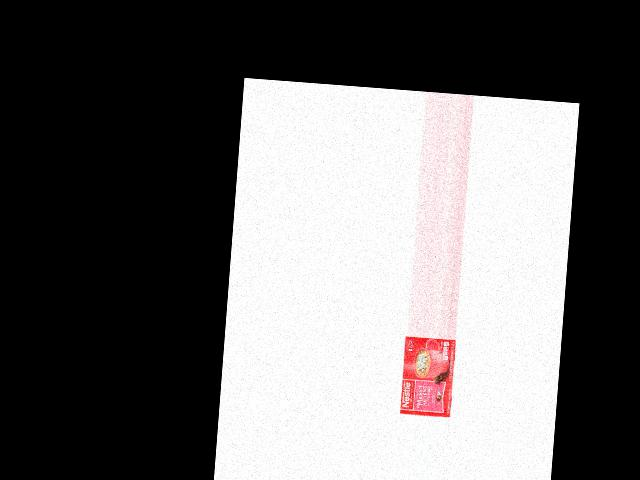chocolate: (401, 335, 459, 415)
